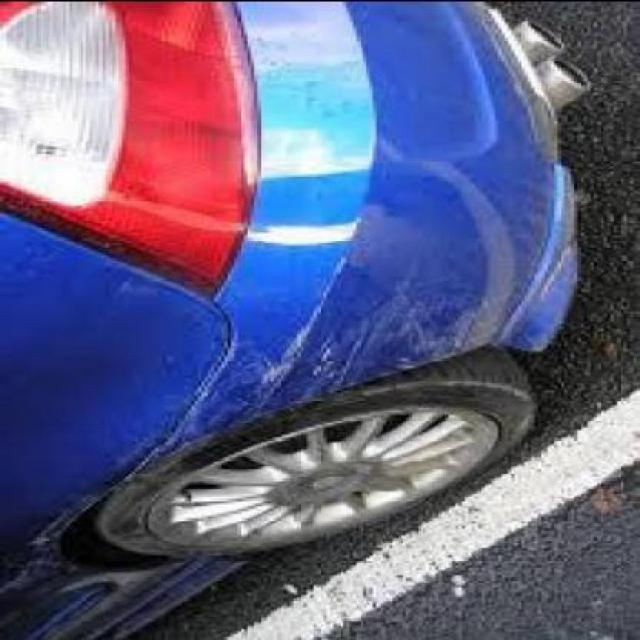damage: (3, 260, 519, 595)
